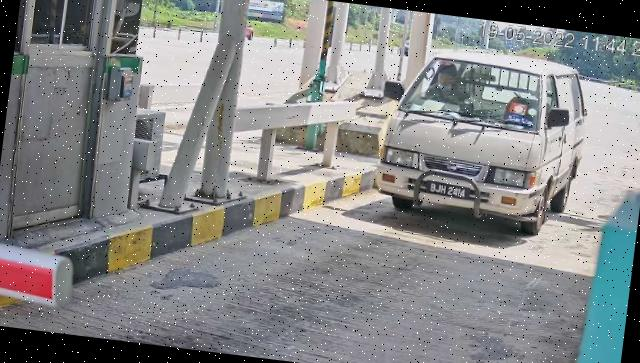License_Plate: (425, 179, 472, 203)
van: (370, 40, 593, 240)
